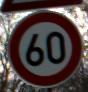Speed Limit -60-: (6, 7, 83, 87)
